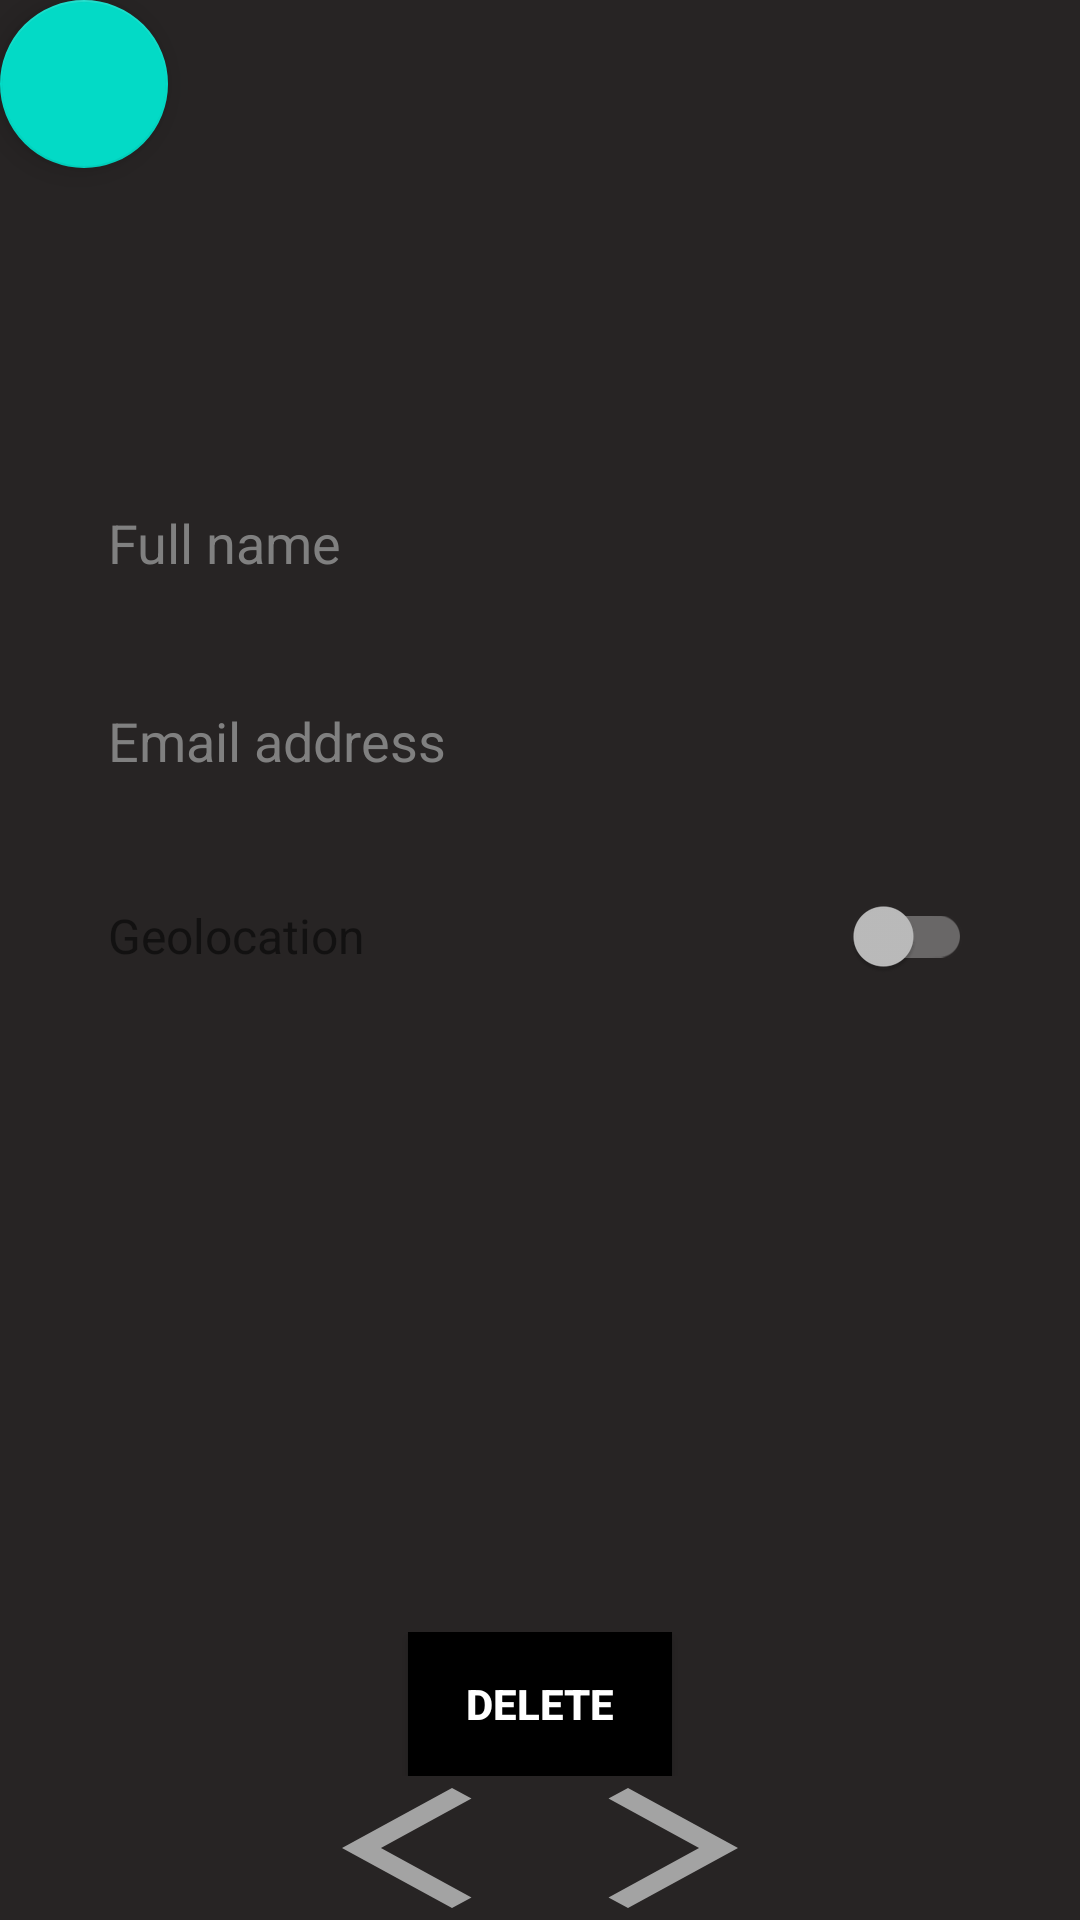

Screen size 1080 × 1920. Icon name, then its center in pixels as point (x, y):
arrow back: point (406, 1848)
arrow forward: point (673, 1848)
